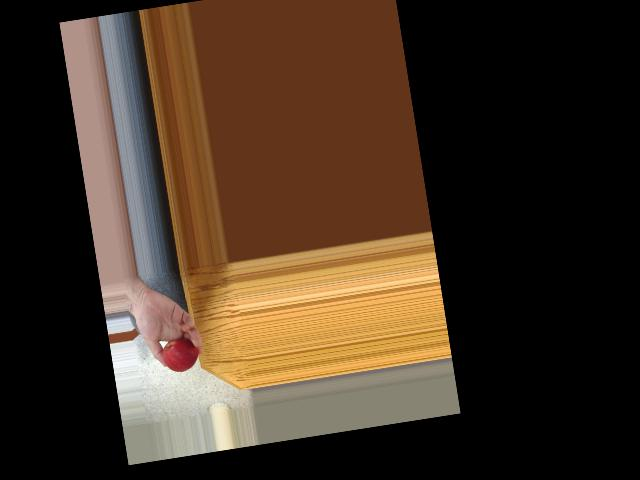apple: (158, 335, 202, 375)
